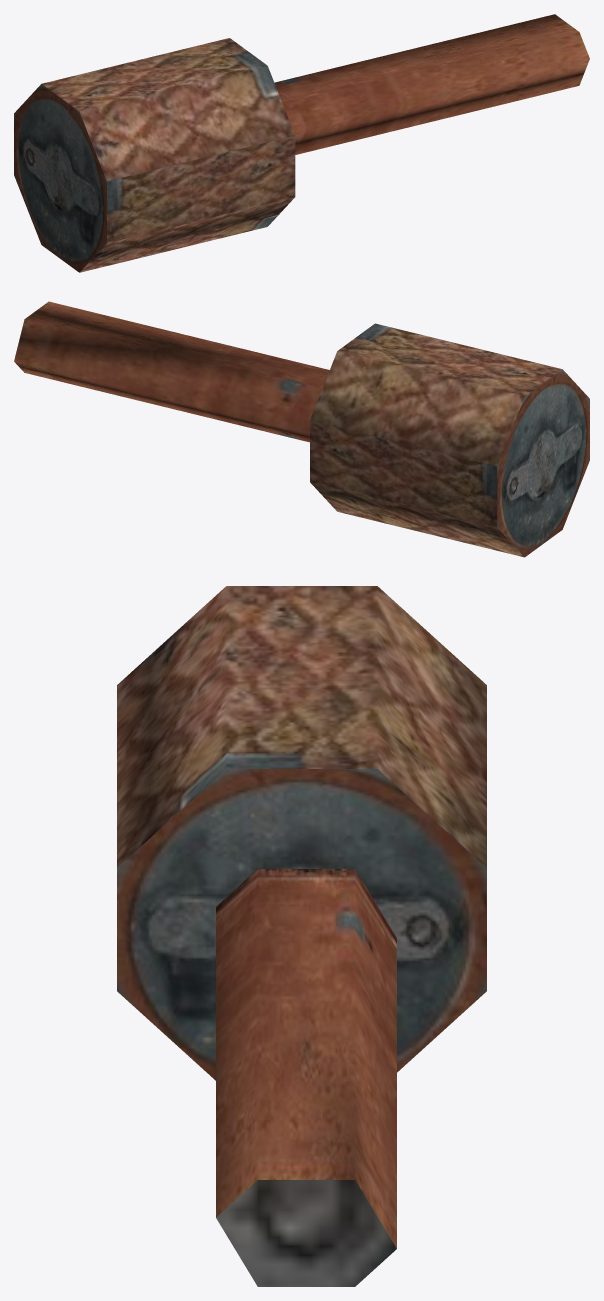
The model's file is projectile_russiangrenade.glb.
3 renders of one model, top to bottom at view 1: azimuth 30°, elevation 25°; view 2: azimuth 150°, elevation 25°; view 3: azimuth 270°, elevation 25°, orthographic. The views are drawn at different scales.
Bounding box in the file's own units: 7.56 × 2.29 × 2.39.
1 material, 1 textured.
